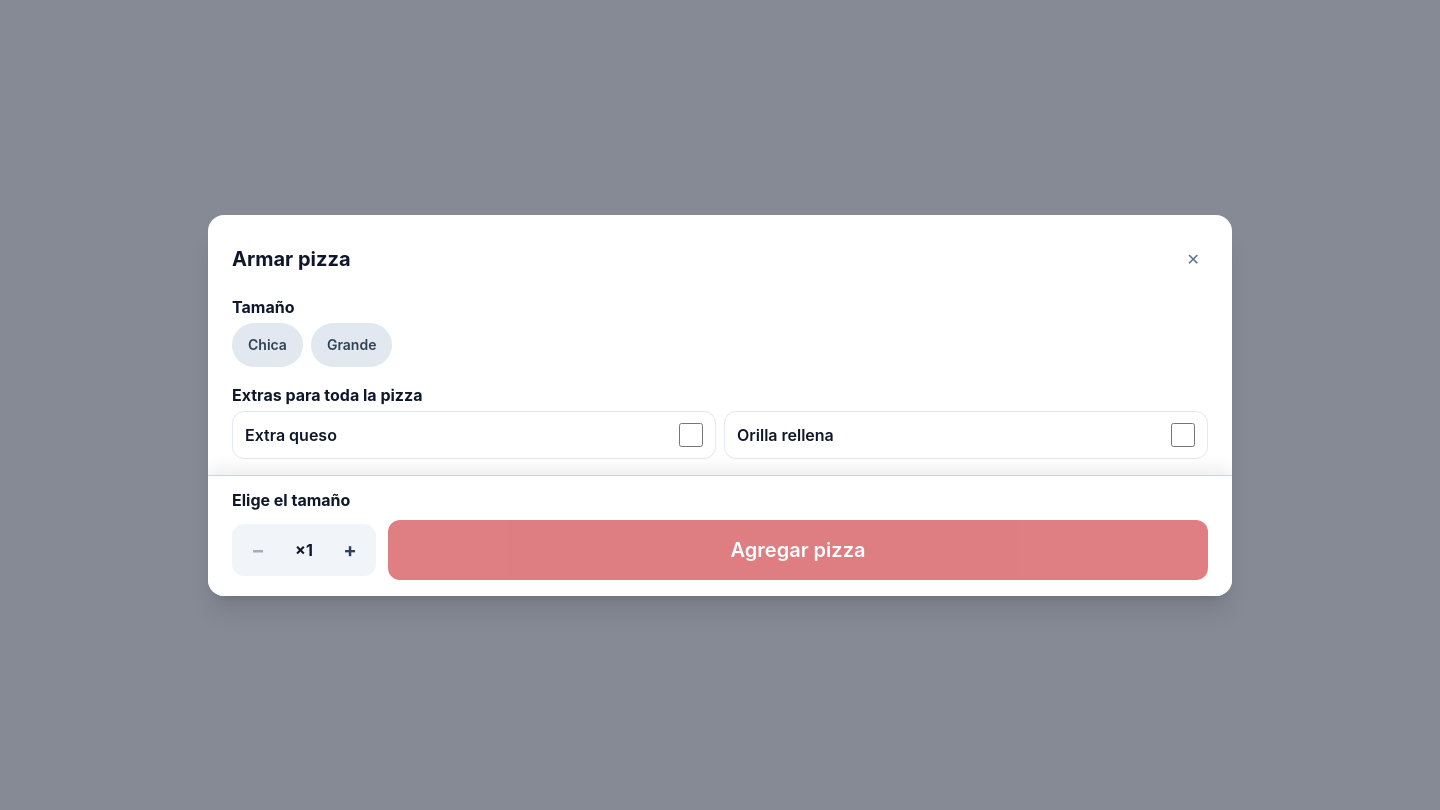
Scenario: PizzaBuilderModal single screen (S1-S3, S5, S6) › shows size, division and the portion on one screen with no step navigation
The width and height of the screenshot is (1440, 810).
Expected: the element "Tamaño" is shown, [232,296,392,366]
Click the button "Grande" at (352, 344), box [311,322,392,366]
Wait 150 ms
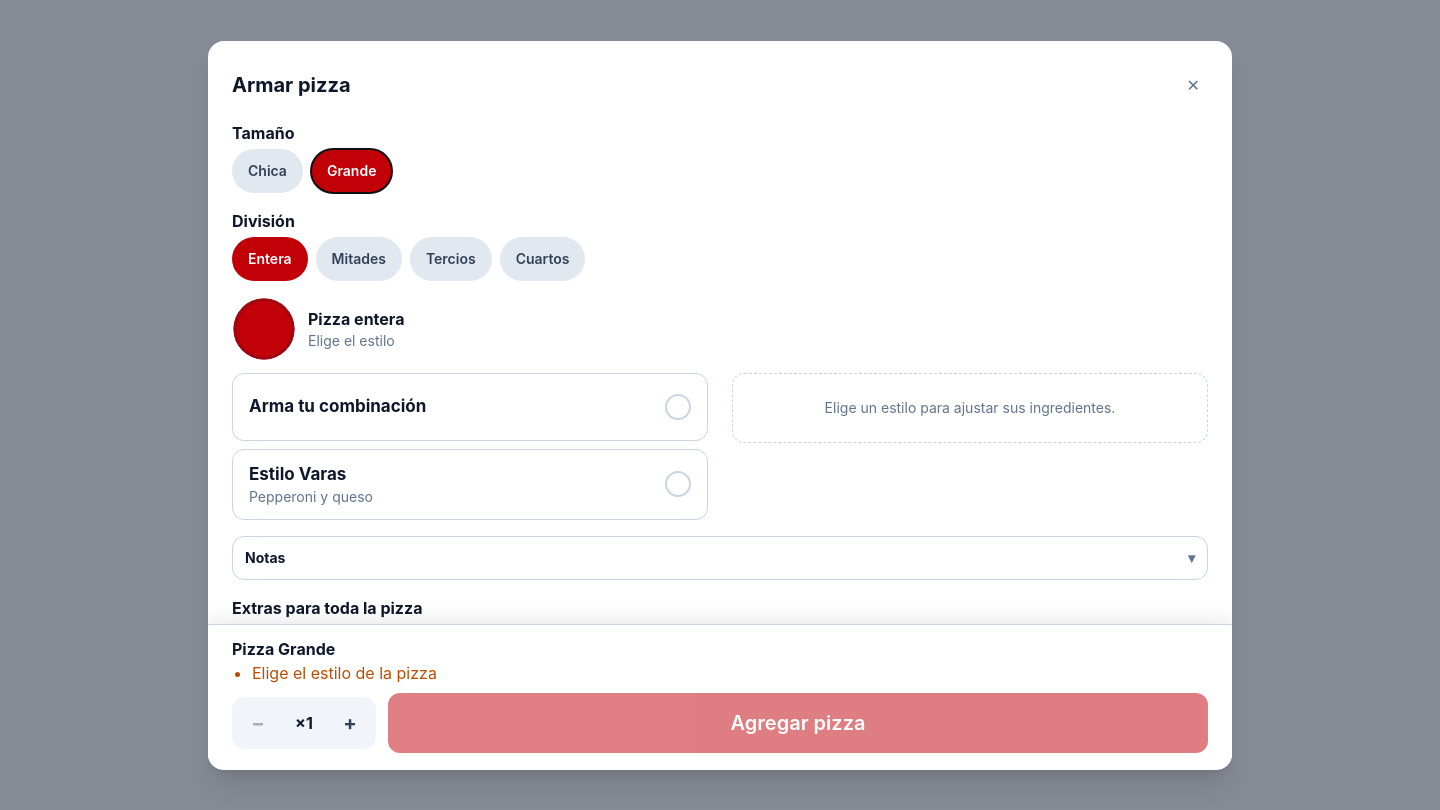
Expected: the element "Tamaño" is shown, [232,122,392,192]
Expected: the element "División" is shown, [232,210,585,280]
Expected: the element named "Estilo de la Pizza entera" is shown, [232,372,708,520]
